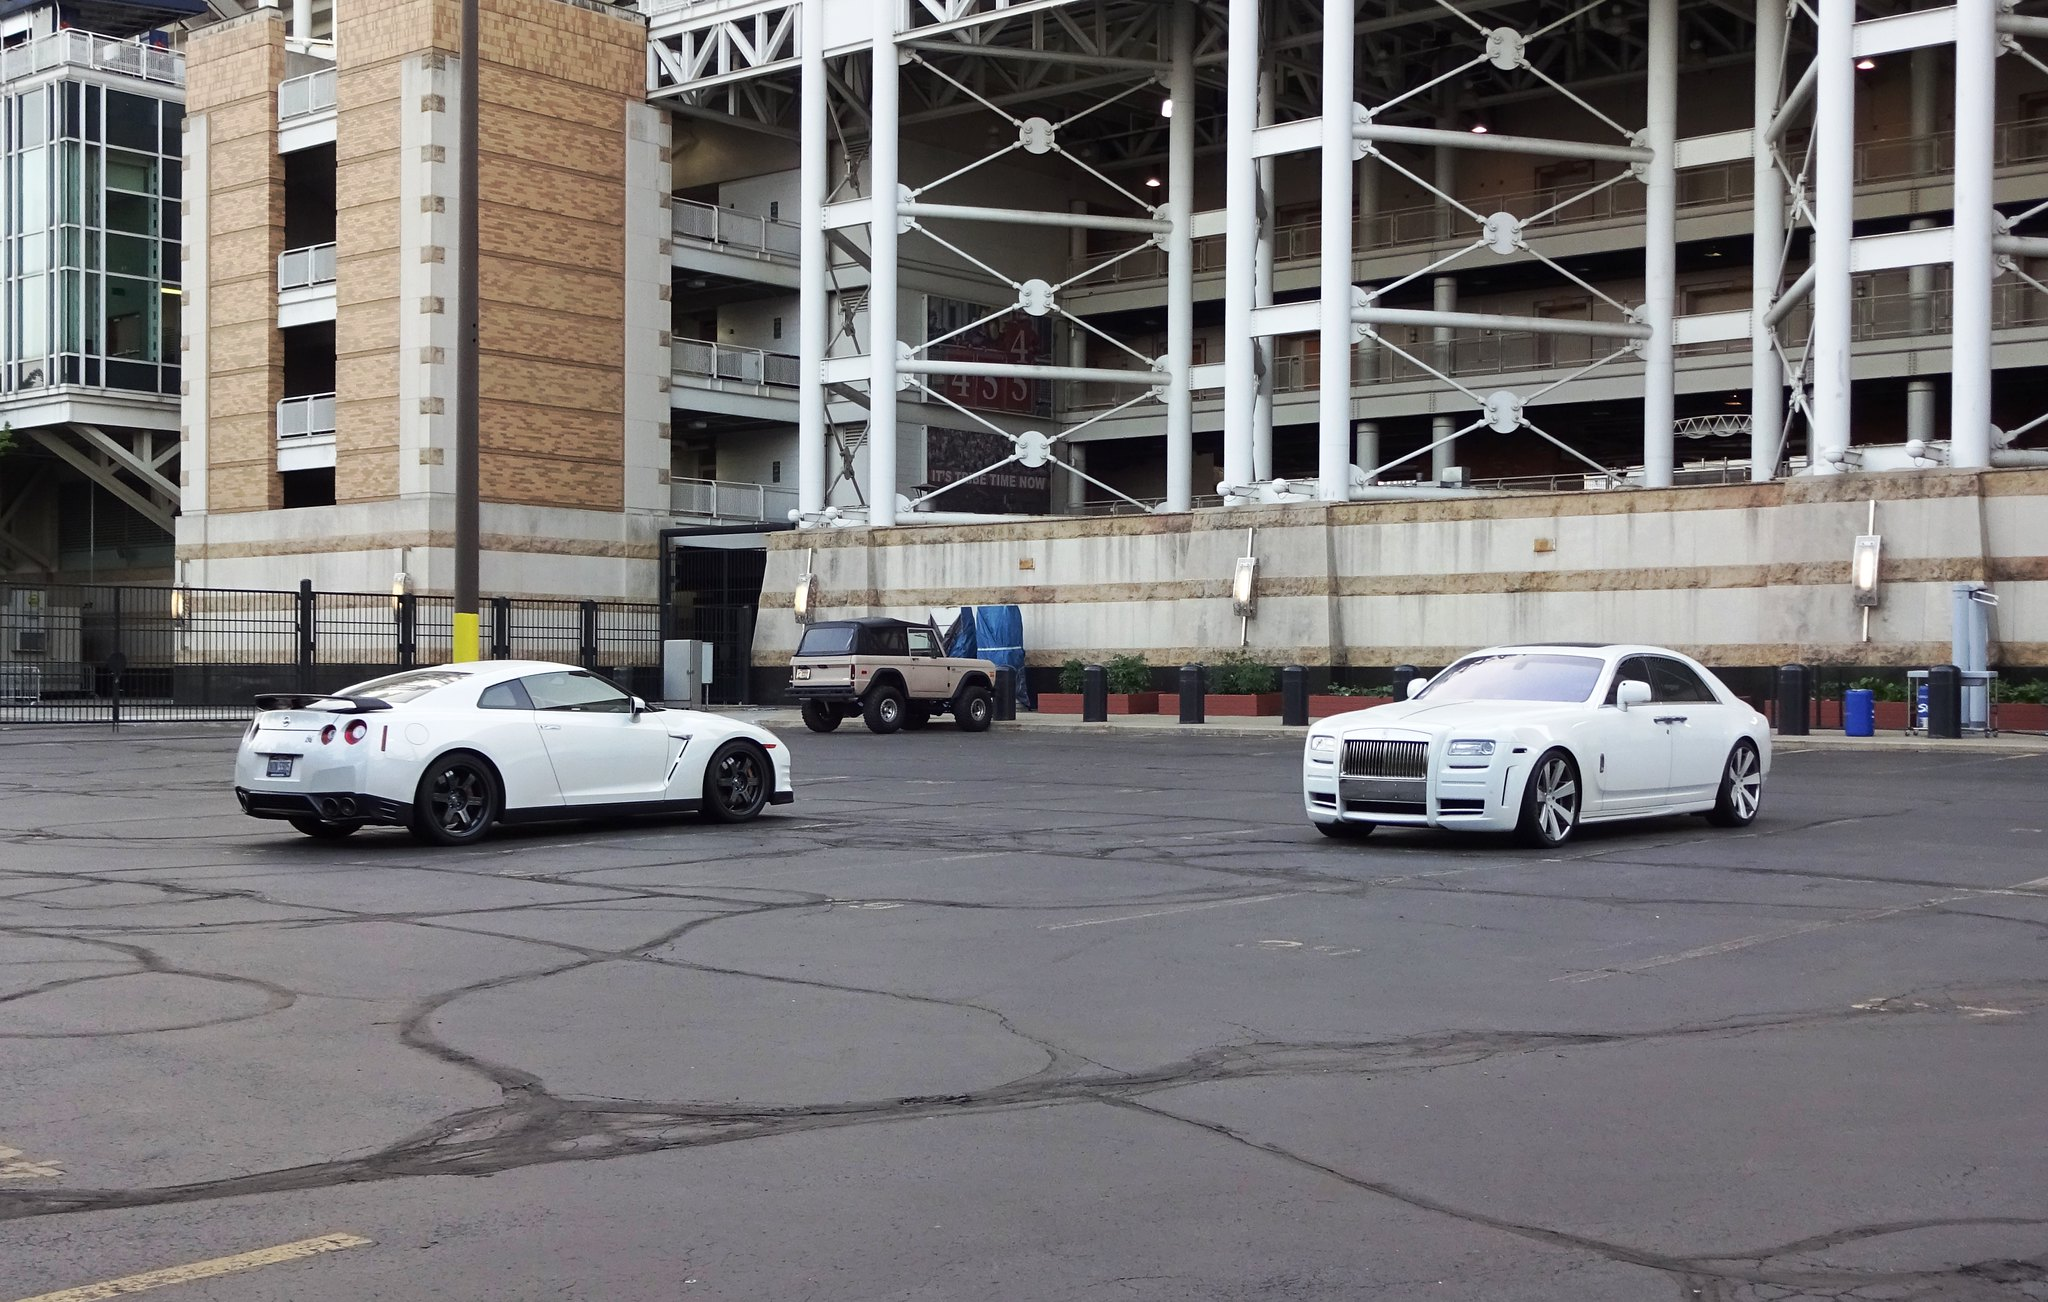Car: (202, 630, 800, 876), (1252, 623, 1793, 860), (737, 600, 1031, 726)
